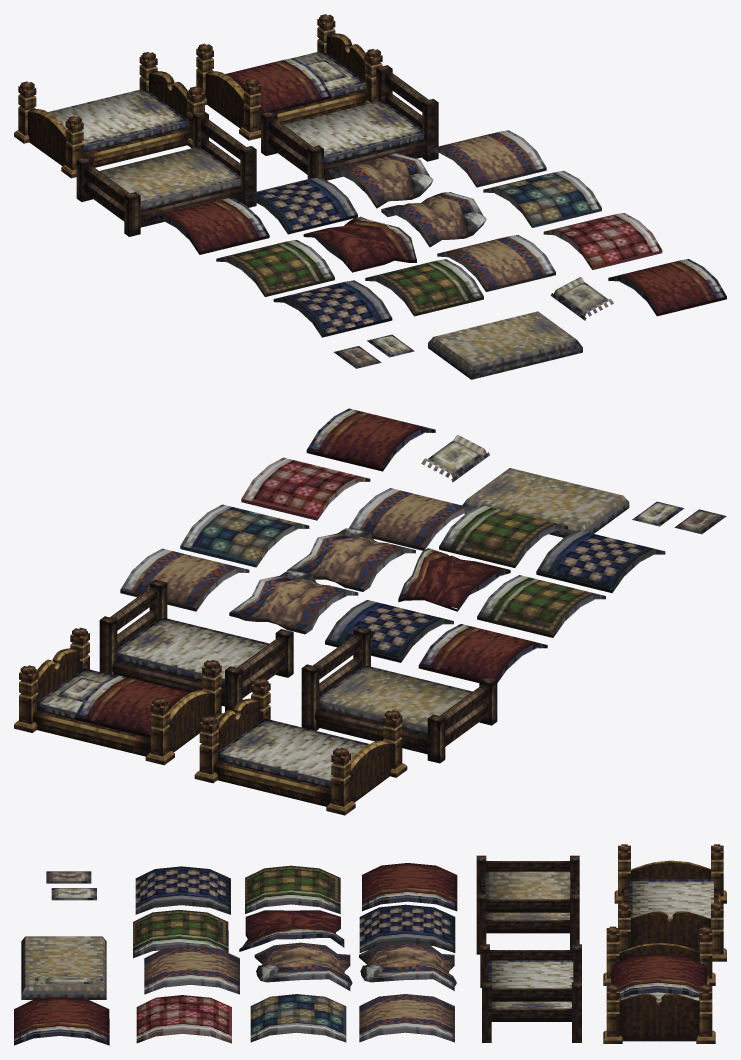
The model's file is EnvObjMD_Bed_A.FBX.
The picture shows the model from 3 angles, top to bottom: view 1: azimuth 30°, elevation 25°; view 2: azimuth 150°, elevation 25°; view 3: azimuth 270°, elevation 25°; orthographic projection. The views are drawn at different scales.
Parts seen in each view (by area): view 1: EnvObjMD_Bed_A_bedfiame_middleclass, EnvObjMD_Bed_A, EnvObjMD_Bed_A_bedfiame_dirty, EnvObjMD_Bed_A_bedfiame_simplicity, EnvObjMD_Bed_A_huton, EnvObjMD_Bed_A_comforter_B, EnvObjMD_Bed_A_comforter_D, EnvObjMD_Bed_A_comforter_White, EnvObjMD_Bed_A_comforter_G, EnvObjMD_Bed_A_comforter_pachwork_A, EnvObjMD_Bed_A_comforter_C, EnvObjMD_Bed_A_comforter_E (+9 smaller); view 2: EnvObjMD_Bed_A_bedfiame_middleclass, EnvObjMD_Bed_A, EnvObjMD_Bed_A_bedfiame_dirty, EnvObjMD_Bed_A_bedfiame_simplicity, EnvObjMD_Bed_A_huton, EnvObjMD_Bed_A_comforter_C, EnvObjMD_Bed_A_comforter_D, EnvObjMD_Bed_A_comforter_G, EnvObjMD_Bed_A_comforter_pachwork_B, EnvObjMD_Bed_A_comforter_E, EnvObjMD_Bed_A_comforter_pachwork_A, EnvObjMD_Bed_A_comforter_A (+9 smaller); view 3: EnvObjMD_Bed_A, EnvObjMD_Bed_A_bedfiame_middleclass, EnvObjMD_Bed_A_bedfiame_dirty, EnvObjMD_Bed_A_bedfiame_simplicity, EnvObjMD_Bed_A_huton, EnvObjMD_Bed_A_comforter_pachwork_B, EnvObjMD_Bed_A_comforter_C, EnvObjMD_Bed_A_comforter_E, EnvObjMD_Bed_A_comforter_F, EnvObjMD_Bed_A_comforter_D, EnvObjMD_Bed_A_comforter_pachwork_A, EnvObjMD_Bed_A_comforter_A (+9 smaller).
Part boxes in pixels (x1,y1,x2,y2): EnvObjMD_Bed_A_bedfiame_middleclass: [14, 52, 204, 178]; EnvObjMD_Bed_A: [196, 14, 382, 140]; EnvObjMD_Bed_A_bedfiame_dirty: [76, 111, 256, 236]; EnvObjMD_Bed_A_bedfiame_simplicity: [261, 65, 438, 180]; EnvObjMD_Bed_A_huton: [428, 311, 582, 379]; EnvObjMD_Bed_A_comforter_B: [428, 130, 546, 187]; EnvObjMD_Bed_A_comforter_D: [273, 280, 392, 337]; EnvObjMD_Bed_A_comforter_White: [239, 177, 357, 234]; EnvObjMD_Bed_A_comforter_G: [365, 259, 483, 316]; EnvObjMD_Bed_A_comforter_pachwork_A: [543, 213, 662, 269]; EnvObjMD_Bed_A_comforter_C: [216, 240, 334, 296]; EnvObjMD_Bed_A_comforter_E: [608, 259, 726, 316]; EnvObjMD_Bed_A_bedfiame_middleclass: [194, 678, 407, 815]; EnvObjMD_Bed_A: [14, 627, 222, 765]; EnvObjMD_Bed_A_bedfiame_dirty: [301, 626, 497, 763]; EnvObjMD_Bed_A_bedfiame_simplicity: [99, 579, 293, 711]; EnvObjMD_Bed_A_huton: [462, 468, 629, 537]; EnvObjMD_Bed_A_comforter_C: [477, 575, 605, 637]; EnvObjMD_Bed_A_comforter_D: [536, 530, 665, 592]; EnvObjMD_Bed_A_comforter_G: [439, 505, 567, 567]; EnvObjMD_Bed_A_comforter_pachwork_B: [180, 504, 309, 567]; EnvObjMD_Bed_A_comforter_E: [306, 408, 435, 471]; EnvObjMD_Bed_A_comforter_pachwork_A: [241, 457, 370, 520]; EnvObjMD_Bed_A_comforter_A: [418, 624, 547, 682]; EnvObjMD_Bed_A: [603, 926, 715, 1043]; EnvObjMD_Bed_A_bedfiame_middleclass: [614, 844, 726, 961]; EnvObjMD_Bed_A_bedfiame_dirty: [476, 855, 579, 954]; EnvObjMD_Bed_A_bedfiame_simplicity: [480, 944, 581, 1042]; EnvObjMD_Bed_A_huton: [21, 936, 106, 999]; EnvObjMD_Bed_A_comforter_pachwork_B: [250, 994, 346, 1042]; EnvObjMD_Bed_A_comforter_C: [245, 865, 340, 913]; EnvObjMD_Bed_A_comforter_E: [14, 997, 109, 1045]; EnvObjMD_Bed_A_comforter_F: [144, 946, 239, 994]; EnvObjMD_Bed_A_comforter_D: [135, 866, 230, 914]; EnvObjMD_Bed_A_comforter_pachwork_A: [136, 995, 231, 1043]; EnvObjMD_Bed_A_comforter_A: [362, 863, 457, 911].
Bounding box in the file's own units: 636 × 96.91 × 1106.
1 material, 1 textured.
